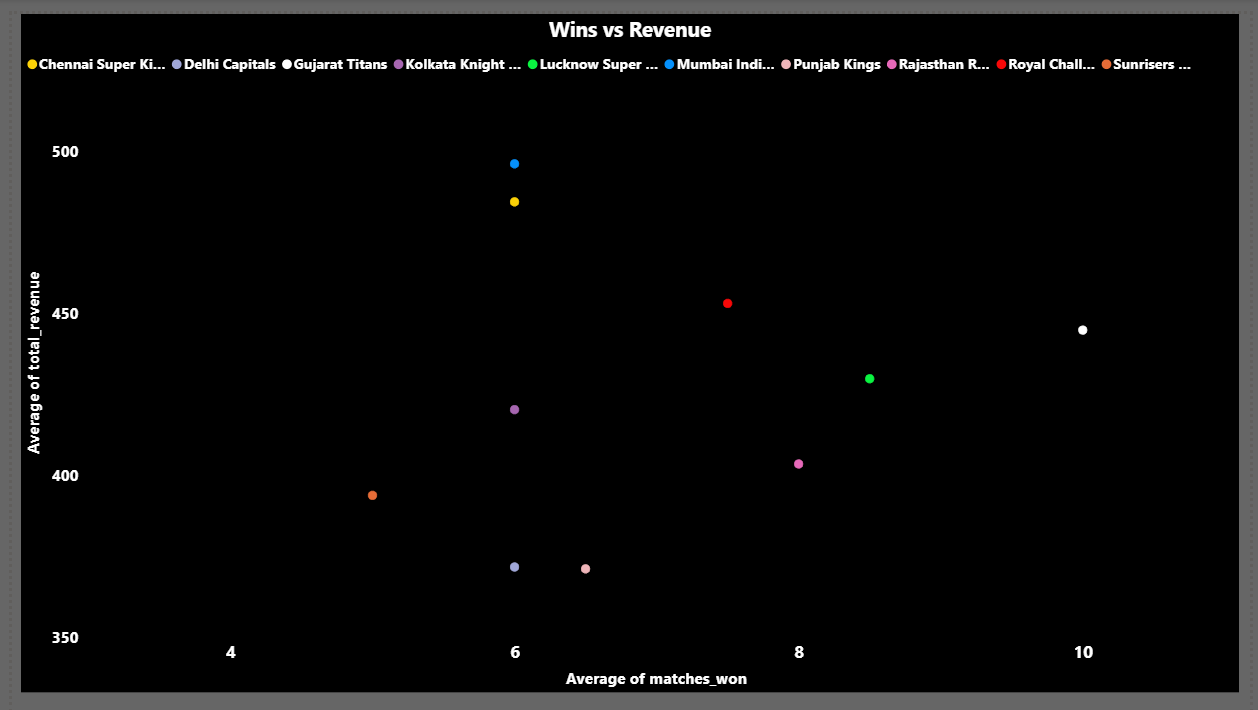

The page's visual inventory and layout, read from the dashboard file:
{"tool":"powerbi","page":{"name":"Page 4","canvas":[1280,720],"ordinal":3},"visuals":[{"type":"scatterChart","title":"Wins vs Revenue","fields":{"Y":["Avg(public vw_team_season_analysis.total_revenue)"],"Series":["public vw_team_season_analysis.team_name"],"X":["Avg(public vw_team_season_analysis.matches_won)"]},"box":[9.3,0,1259.3,701],"z":0}]}

Visuals, with their boxes in screenshot pixels (x1, y1, x2, y2), scaled from the page's 1280x720 canvas onto the 1258x710 screenshot:
"Wins vs Revenue" scatterChart: x1=9, y1=0, x2=1247, y2=691
